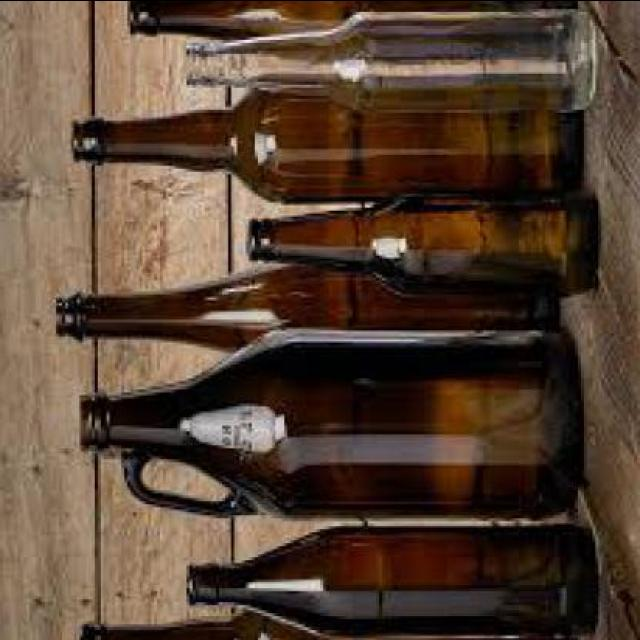kaca: (78, 325, 578, 517), (68, 87, 578, 199), (52, 256, 558, 350), (184, 524, 594, 632), (182, 6, 596, 107), (248, 182, 600, 294), (124, 0, 572, 45), (78, 607, 564, 640)
